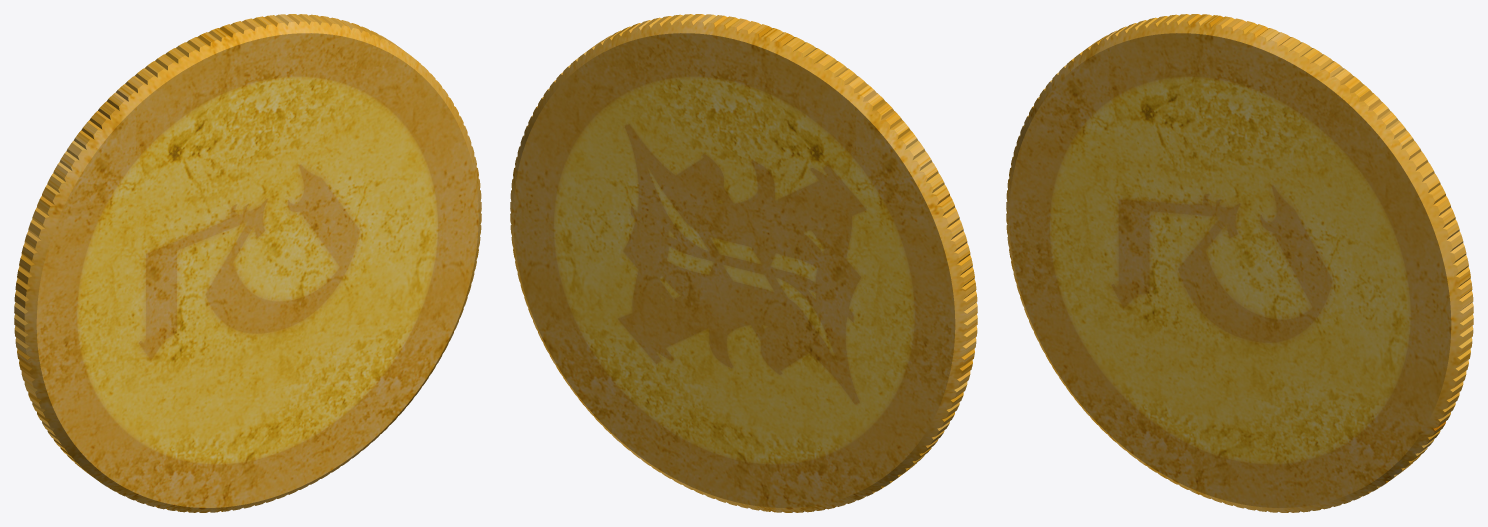
File: coin_n5.obj
3 views of the same model, side by side, from view 1: azimuth 30°, elevation 25°; view 2: azimuth 150°, elevation 25°; view 3: azimuth 330°, elevation 25° (orthographic).
Visible parts, largest first — view 1: Object__0; view 2: Object__0; view 3: Object__0.
Boxes of the visible parts, bbox=[...] form: Object__0: bbox=[14, 14, 481, 512]; Object__0: bbox=[510, 14, 977, 512]; Object__0: bbox=[1006, 14, 1473, 512].
Size of the model in its own units: 0.0252 by 0.0252 by 0.00185.
2 materials, 2 textured.
